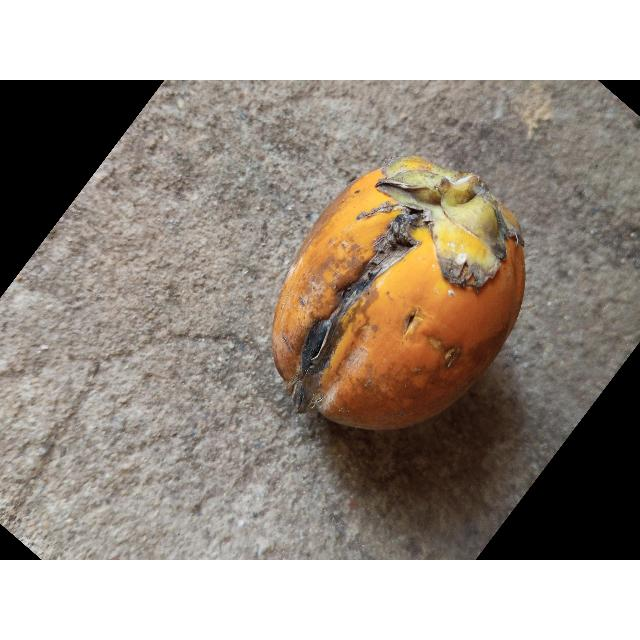damaged: (272, 156, 525, 429)
